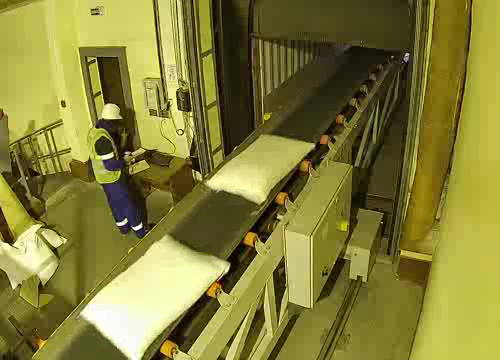bag: (73, 230, 247, 360), (204, 132, 318, 209)
